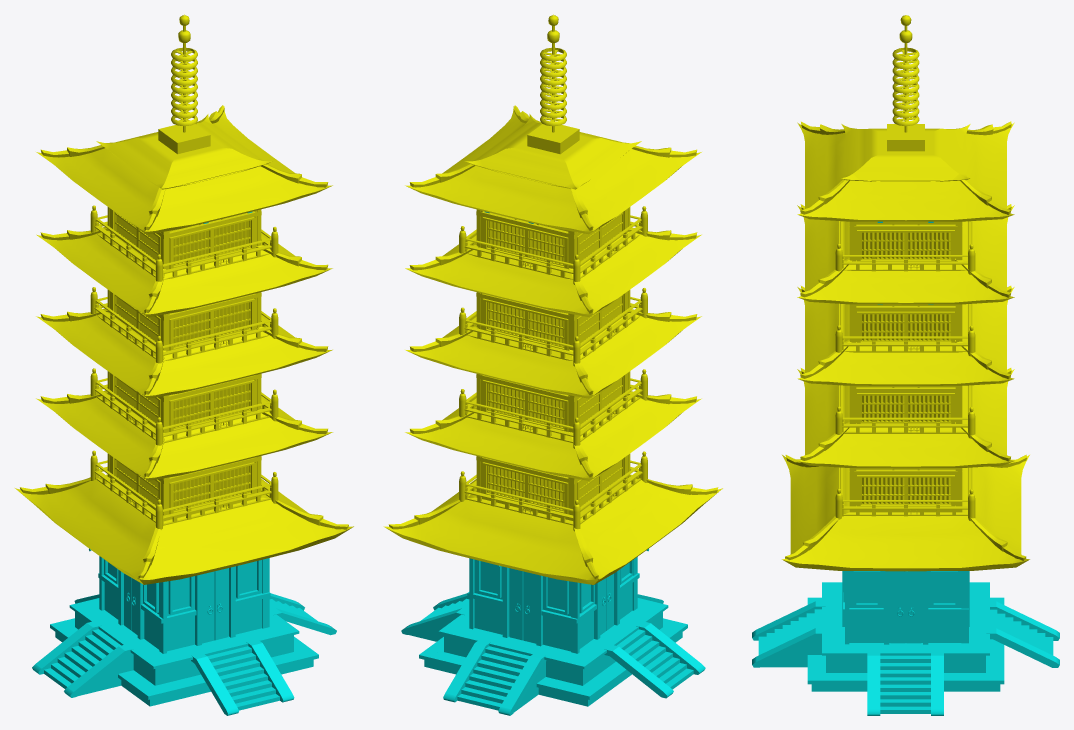
The model's file is lp_pagoda_tall.fbx.
The picture shows the model from 3 angles, left to right: view 1: azimuth 30°, elevation 25°; view 2: azimuth 150°, elevation 25°; view 3: azimuth 270°, elevation 25°; orthographic projection.
Visible parts, largest first — view 1: pagoda_tall; view 2: pagoda_tall; view 3: pagoda_tall.
Boxes of the visible parts, bbox=[...] form: pagoda_tall: bbox=[15, 14, 353, 715]; pagoda_tall: bbox=[383, 14, 722, 715]; pagoda_tall: bbox=[752, 15, 1059, 715].
Bounding box in the file's own units: 25.45 × 58.19 × 25.45.
